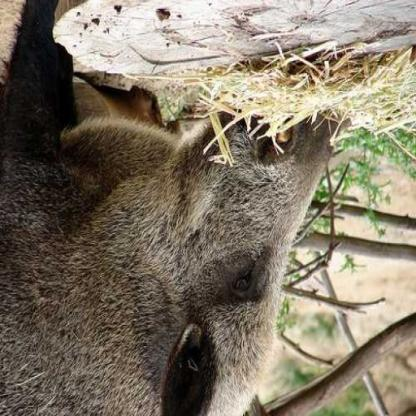boar: (0, 62, 415, 416)
